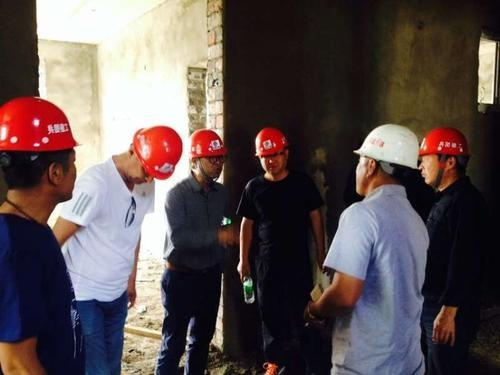red: (2, 94, 78, 208), (122, 123, 183, 185), (417, 123, 471, 192), (184, 126, 227, 180), (252, 126, 293, 175)
white: (350, 118, 421, 200)
